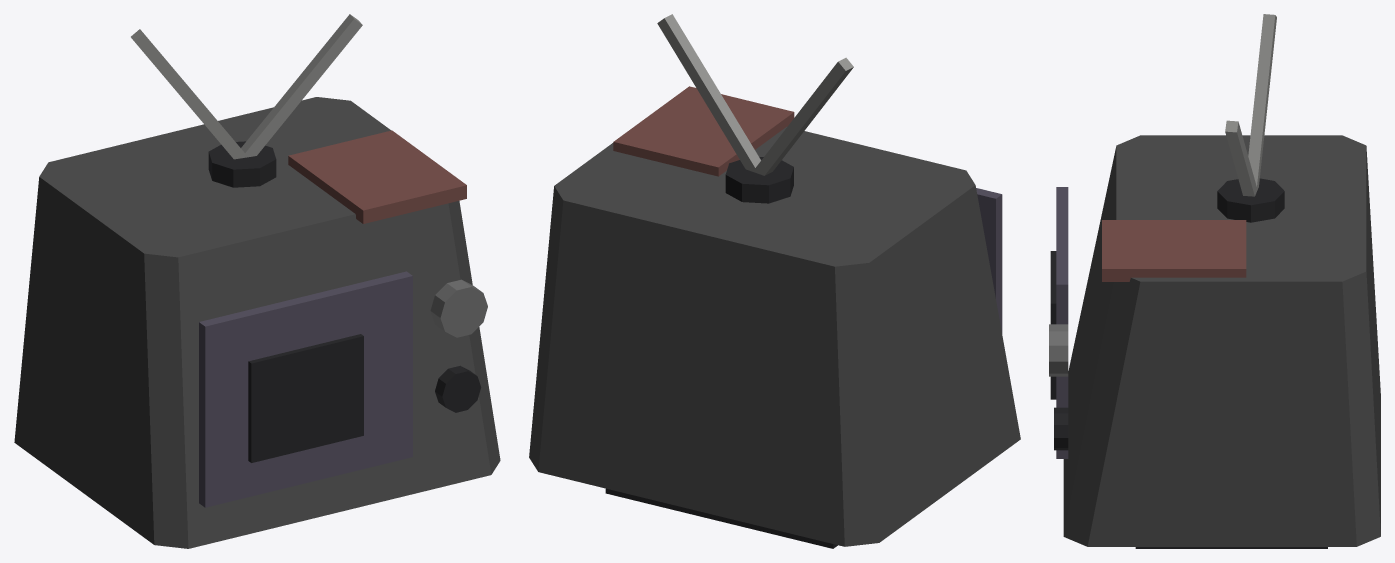
The picture shows the model from 3 angles, left to right: view 1: azimuth 30°, elevation 25°; view 2: azimuth 150°, elevation 25°; view 3: azimuth 270°, elevation 25°; orthographic projection. The views are drawn at different scales.
Visible parts, largest first — view 1: oc_tv_1, oc_tv_2, oc_tv_3, oc_tv_9, oc_tv_8, oc_tv_4, oc_tv_6, oc_tv_7, oc_tv_5; view 2: oc_tv_1, oc_tv_9, oc_tv_8, oc_tv_7, oc_tv_6, oc_tv_2, oc_tv_0; view 3: oc_tv_1, oc_tv_9, oc_tv_7, oc_tv_2, oc_tv_6, oc_tv_8, oc_tv_4, oc_tv_3, oc_tv_5.
Boxes of the visible parts, x1=… form: oc_tv_1: x1=14, y1=97, x2=500, y2=548; oc_tv_2: x1=199, y1=271, x2=412, y2=507; oc_tv_3: x1=248, y1=334, x2=363, y2=462; oc_tv_9: x1=288, y1=130, x2=466, y2=223; oc_tv_8: x1=241, y1=14, x2=362, y2=158; oc_tv_4: x1=430, y1=279, x2=487, y2=337; oc_tv_6: x1=208, y1=141, x2=276, y2=187; oc_tv_7: x1=131, y1=29, x2=247, y2=159; oc_tv_5: x1=435, y1=365, x2=481, y2=412; oc_tv_1: x1=529, y1=127, x2=1020, y2=546; oc_tv_9: x1=613, y1=86, x2=794, y2=176; oc_tv_8: x1=657, y1=14, x2=760, y2=172; oc_tv_7: x1=755, y1=57, x2=853, y2=175; oc_tv_6: x1=725, y1=157, x2=793, y2=203; oc_tv_2: x1=976, y1=188, x2=1002, y2=333; oc_tv_0: x1=605, y1=488, x2=837, y2=548; oc_tv_1: x1=1063, y1=135, x2=1380, y2=546; oc_tv_9: x1=1102, y1=220, x2=1246, y2=281; oc_tv_7: x1=1248, y1=14, x2=1276, y2=190; oc_tv_2: x1=1056, y1=187, x2=1068, y2=458; oc_tv_6: x1=1217, y1=178, x2=1284, y2=222; oc_tv_8: x1=1225, y1=120, x2=1257, y2=196; oc_tv_4: x1=1049, y1=324, x2=1068, y2=376; oc_tv_3: x1=1050, y1=251, x2=1056, y2=399; oc_tv_5: x1=1054, y1=407, x2=1068, y2=450.
Size of the model in its own units: 0.8 by 1.01 by 0.69.
